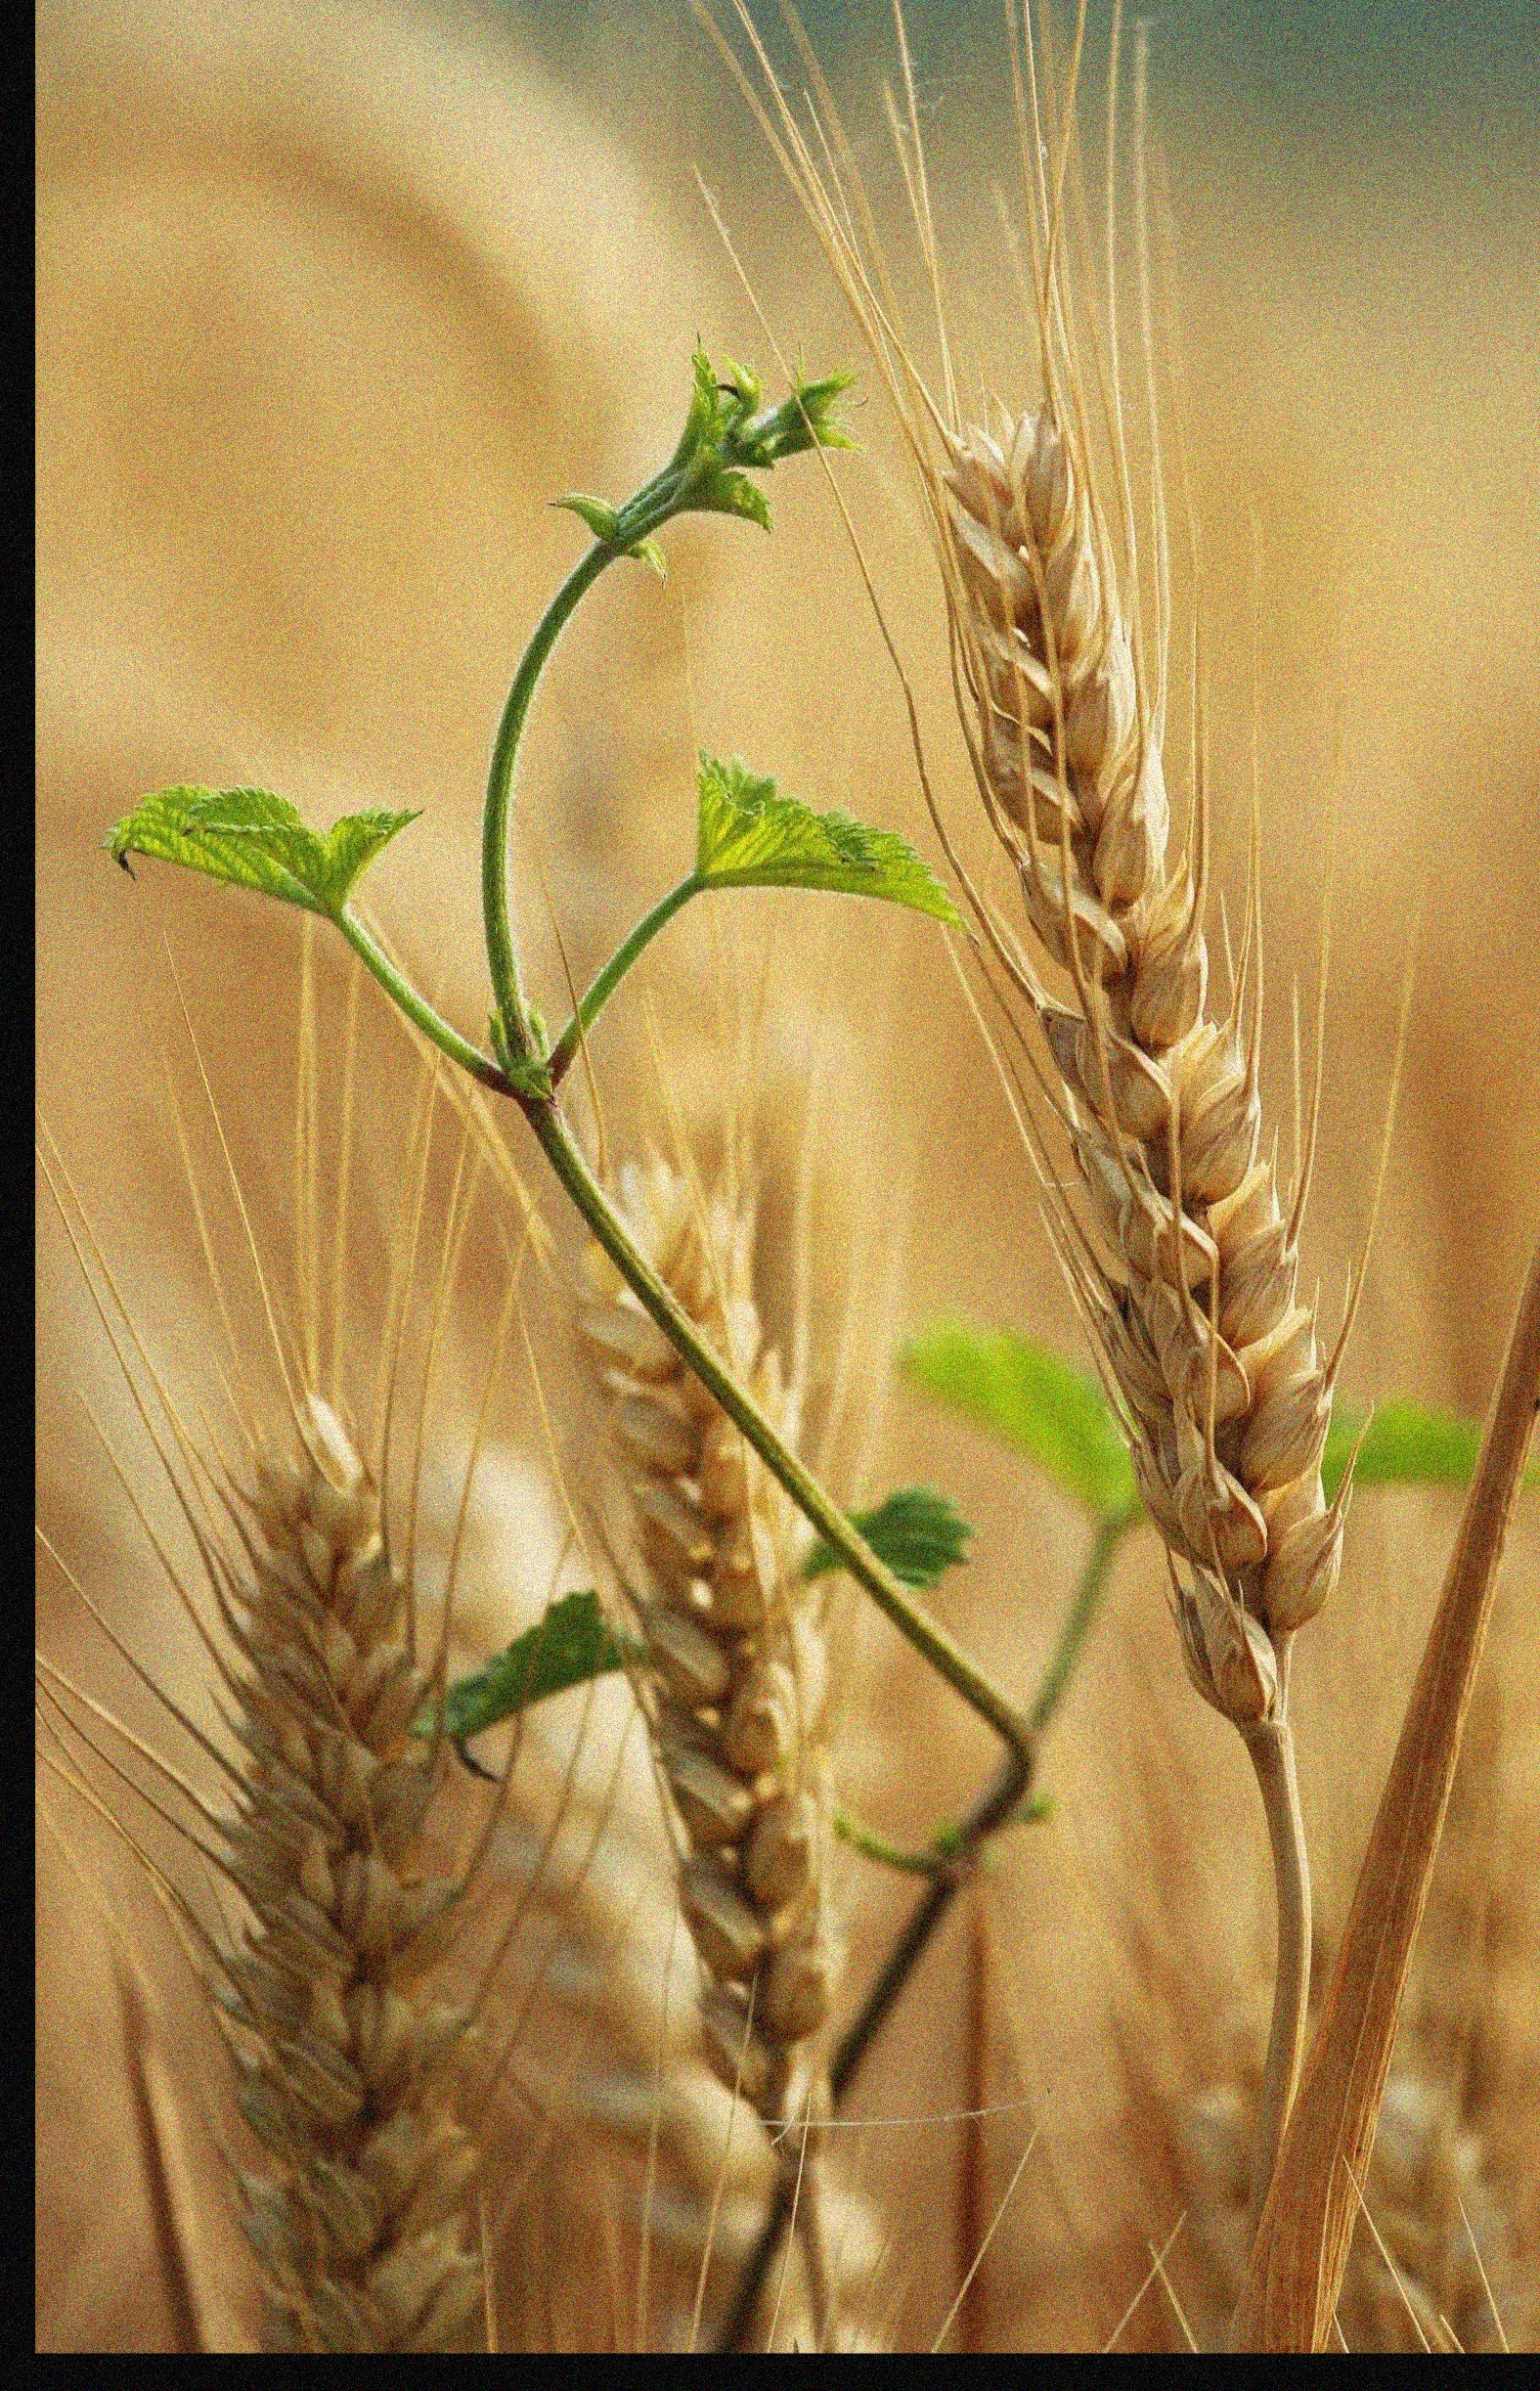wheat: (878, 214, 1408, 1772), (73, 1363, 493, 2349), (585, 1129, 875, 2138)
